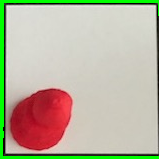Red Bishop: (9, 85, 73, 154)
